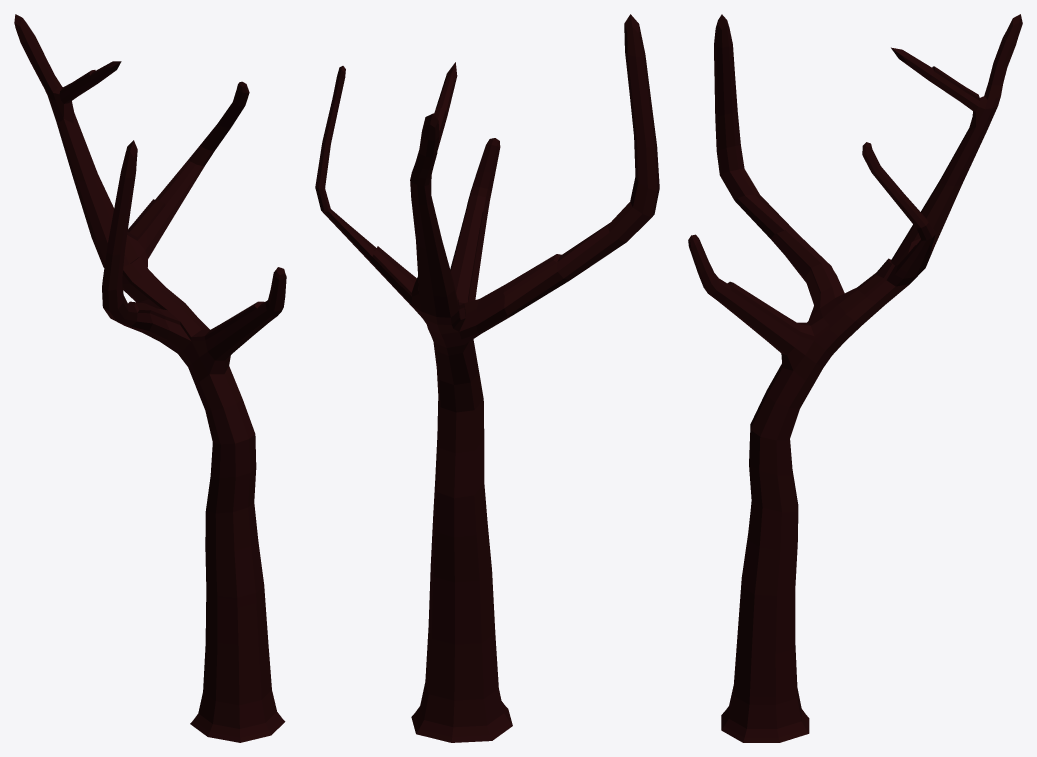
File: dead-tree2.glb
The picture shows the model from 3 angles, left to right: view 1: azimuth 30°, elevation 25°; view 2: azimuth 150°, elevation 25°; view 3: azimuth 270°, elevation 25°; orthographic projection. The views are drawn at different scales.
Visible parts, largest first — view 1: CommonTree_Dead_Snow_4; view 2: CommonTree_Dead_Snow_4; view 3: CommonTree_Dead_Snow_4.
Boxes of the visible parts, left/top/right/bottom form: CommonTree_Dead_Snow_4: left=14, top=14, right=286, bottom=742; CommonTree_Dead_Snow_4: left=315, top=14, right=659, bottom=742; CommonTree_Dead_Snow_4: left=688, top=14, right=1022, bottom=742.
Bounding box in the file's own units: 0.8161 × 2.37 × 1.08.
